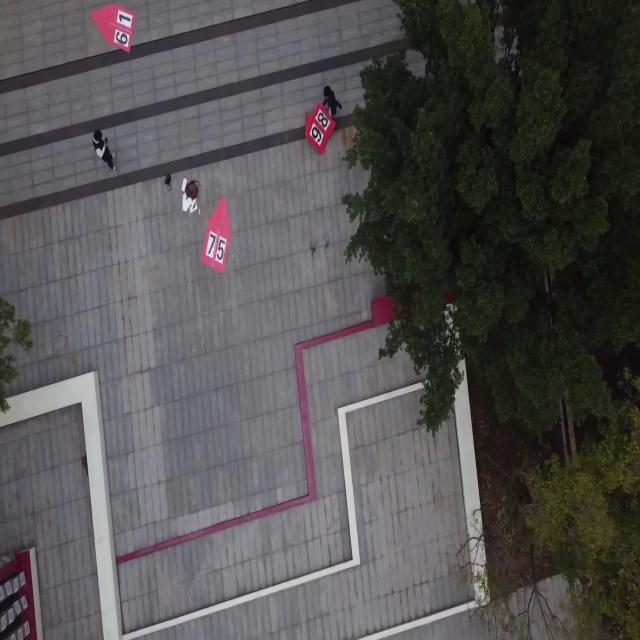-sign-: (84, 1, 142, 59), (201, 194, 231, 274)
